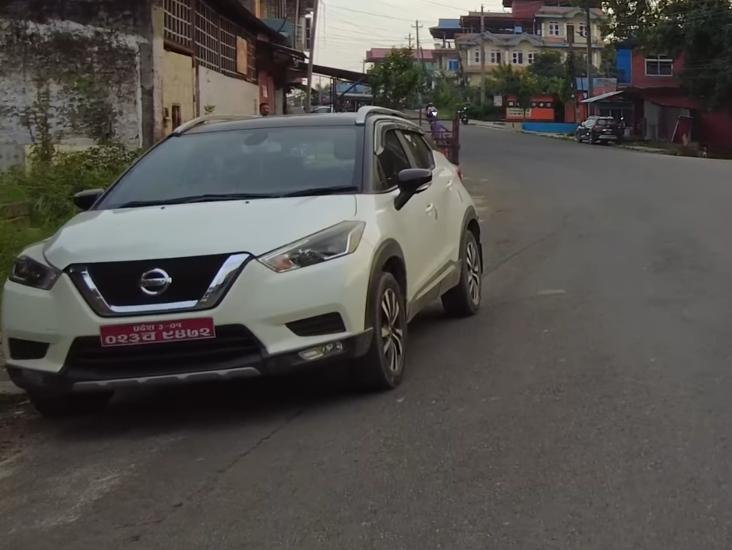car: (3, 99, 494, 397), (577, 109, 624, 151)
